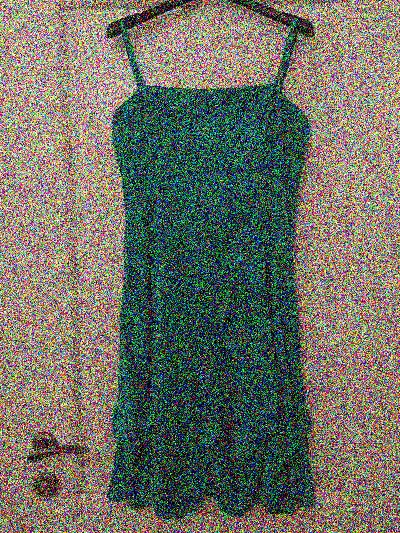Dress: (61, 27, 346, 523)
